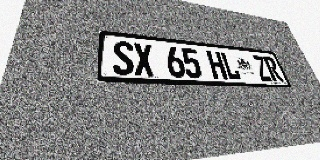5: (181, 48, 203, 79)
6: (165, 46, 187, 78)
H: (206, 50, 228, 80)
L: (220, 52, 242, 80)
R: (262, 56, 284, 82)
S: (113, 40, 134, 76)
X: (133, 43, 155, 77)
Z: (251, 55, 273, 81)
